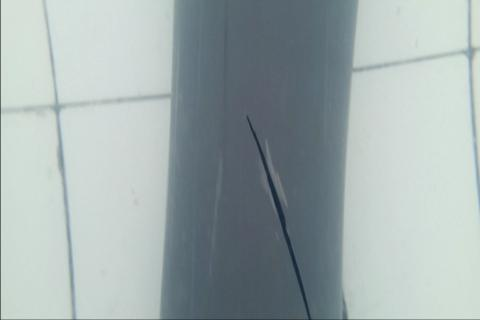keretakan: (244, 112, 313, 320)
